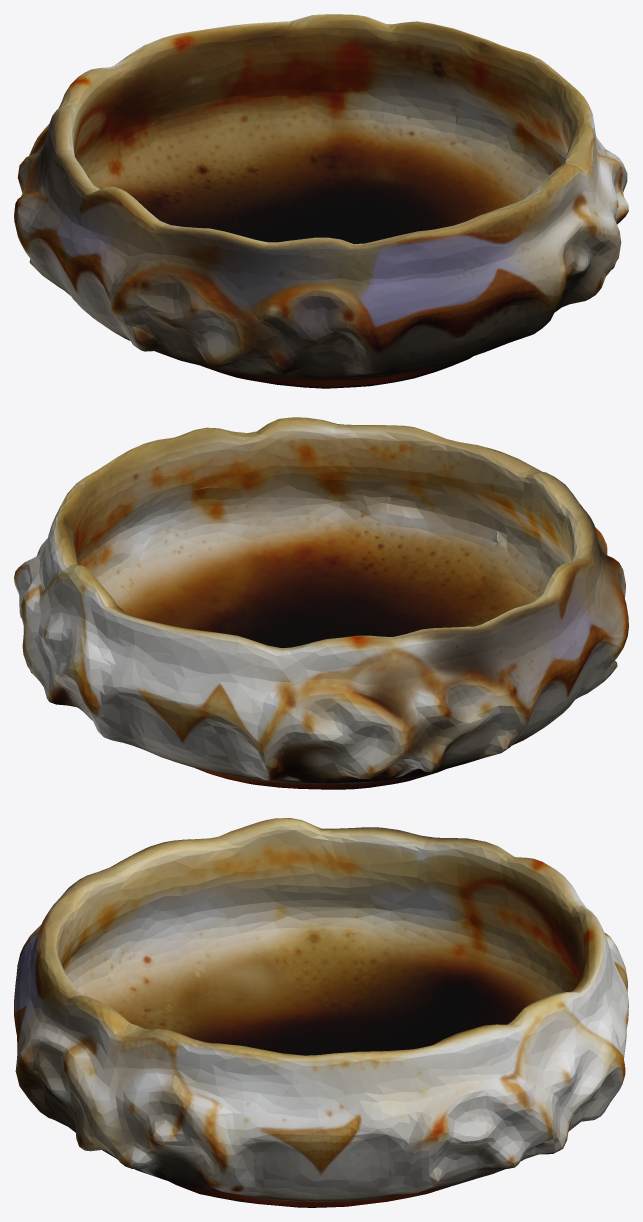
File: porcelain-glass-holder-rustic.jpeg.glb
The picture shows the model from 3 angles, top to bottom: view 1: azimuth 30°, elevation 25°; view 2: azimuth 150°, elevation 25°; view 3: azimuth 270°, elevation 25°; orthographic projection. The views are drawn at different scales.
Parts seen in each view (by area): view 1: world; view 2: world; view 3: world.
Boxes of the visible parts, bbox=[...] form: world: bbox=[14, 14, 628, 388]; world: bbox=[14, 417, 628, 789]; world: bbox=[14, 818, 628, 1207].
Bounding box in the file's own units: 0.9996 × 0.3535 × 0.997.
1 material, 1 textured.
